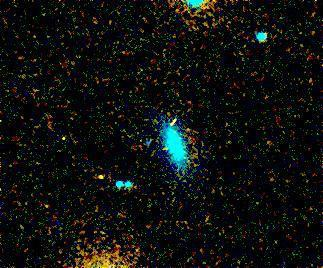star: (86, 161, 116, 191)
